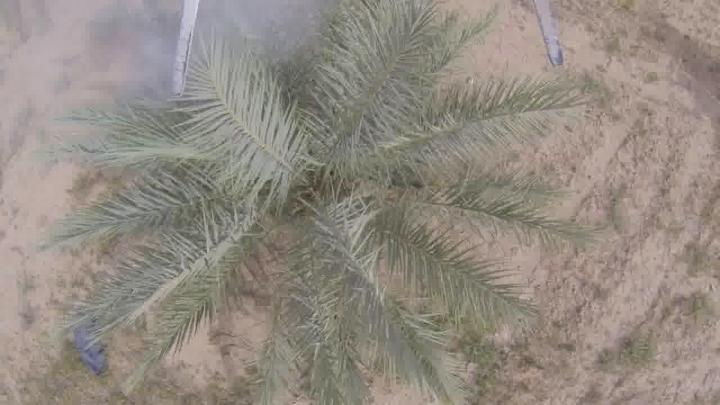Date-Palm-Crown: (172, 77, 454, 289)
